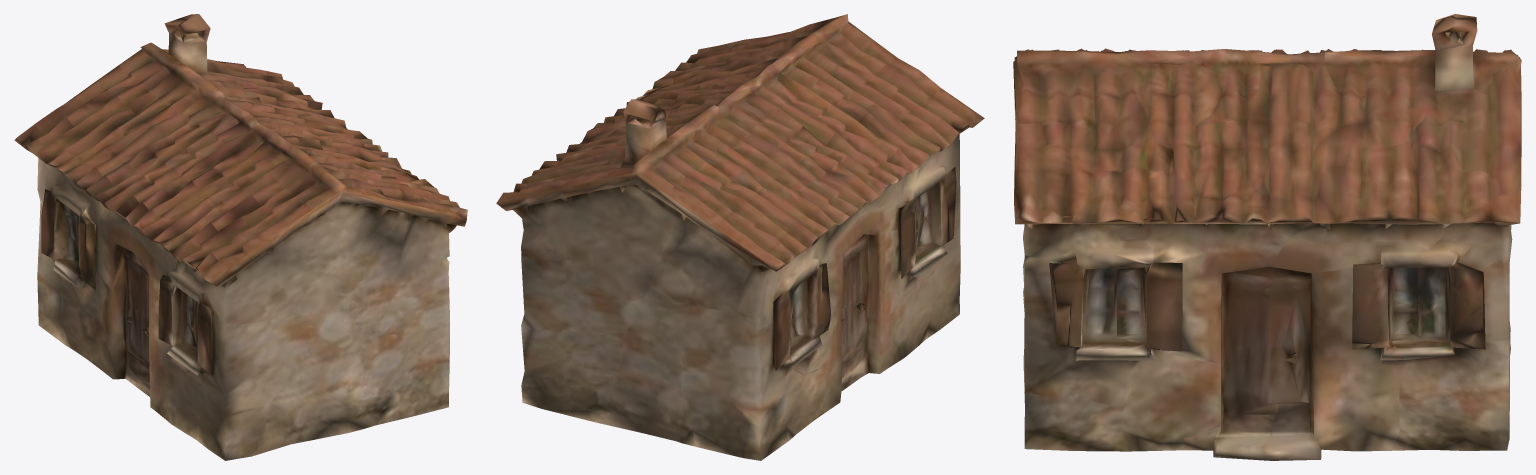
The model's file is house-cottage-lod.glb.
3 renders of one model, left to right at view 1: azimuth 30°, elevation 25°; view 2: azimuth 150°, elevation 25°; view 3: azimuth 270°, elevation 25°, orthographic. The views are drawn at different scales.
Parts seen in each view (by area): view 1: tripo_node_828b5294-a768-426c-9c95-05dc79ae2954; view 2: tripo_node_828b5294-a768-426c-9c95-05dc79ae2954; view 3: tripo_node_828b5294-a768-426c-9c95-05dc79ae2954.
Part boxes in pixels (x1=…): tripo_node_828b5294-a768-426c-9c95-05dc79ae2954: x1=14, y1=14, x2=467, y2=460; tripo_node_828b5294-a768-426c-9c95-05dc79ae2954: x1=496, y1=14, x2=984, y2=460; tripo_node_828b5294-a768-426c-9c95-05dc79ae2954: x1=1013, y1=14, x2=1521, y2=460.
Size of the model in its own units: 0.7742 by 0.8149 by 0.9986.
Materials: 1 (1 with a texture image).
